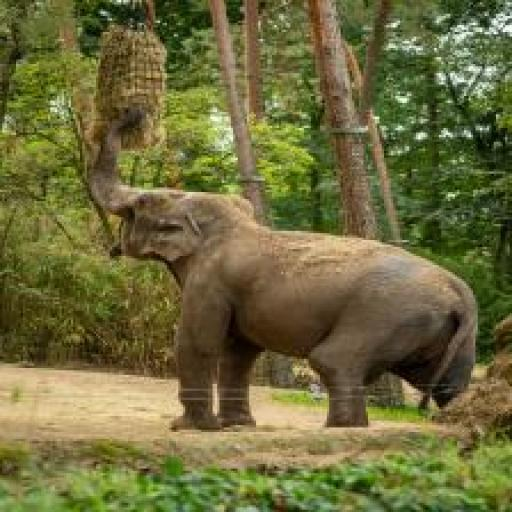Elephant: (89, 107, 488, 440)
